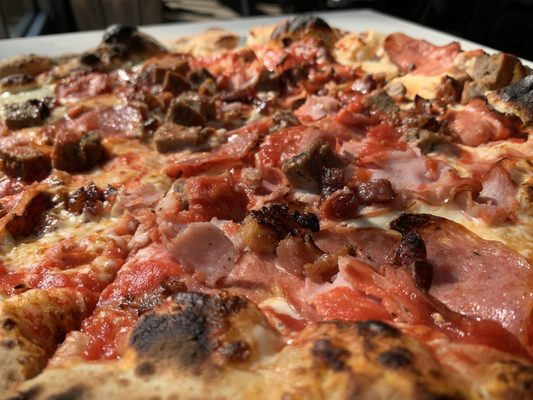sandwich: (0, 13, 533, 400)
